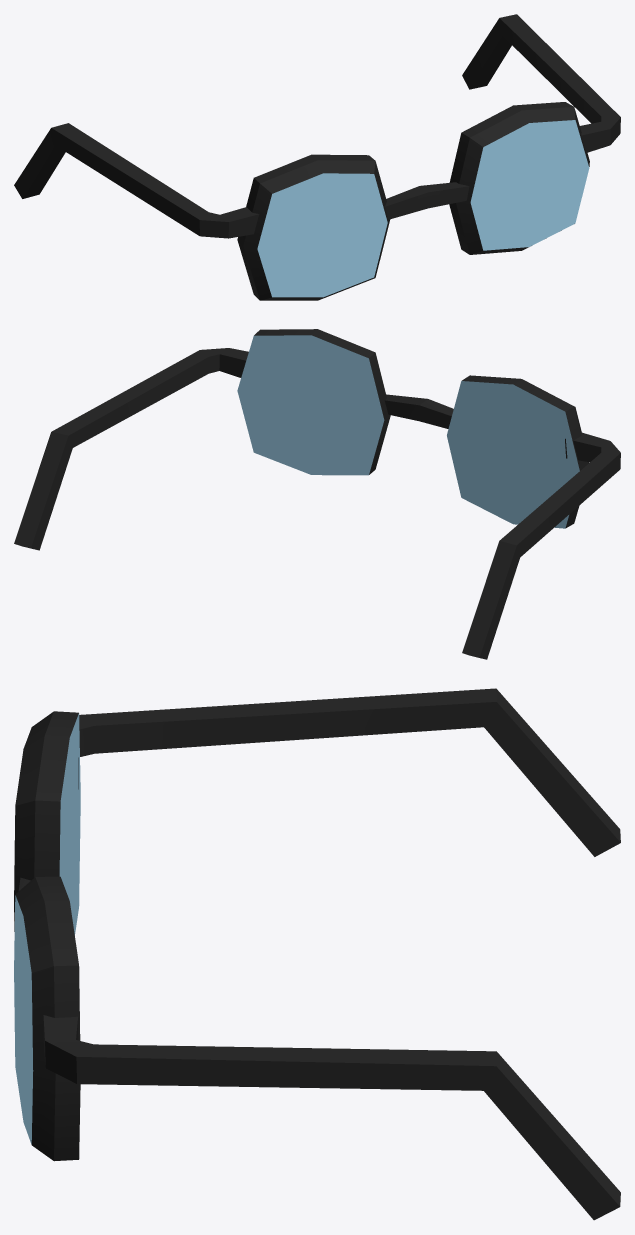
Rendered from Glasses_01.fbx.
The picture shows the model from 3 angles, top to bottom: view 1: azimuth 30°, elevation 25°; view 2: azimuth 150°, elevation 25°; view 3: azimuth 270°, elevation 25°; orthographic projection. The views are drawn at different scales.
Parts seen in each view (by area): view 1: Glasses_01; view 2: Glasses_01; view 3: Glasses_01.
Part boxes in pixels (box(x1,y1,x2,y2)): Glasses_01: box(14, 14, 620, 300); Glasses_01: box(14, 329, 620, 659); Glasses_01: box(14, 688, 620, 1220).
Bounding box in the file's own units: 75.49 × 21.76 × 51.26.
